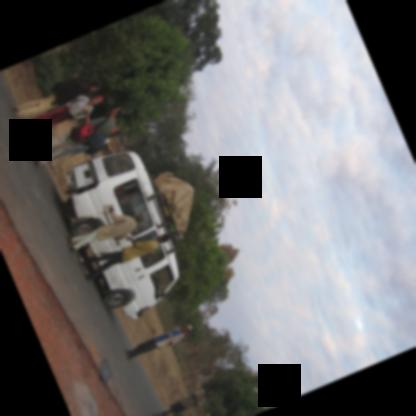backpack: (63, 124, 96, 144), (50, 79, 76, 91), (82, 143, 105, 154)
handbag: (67, 115, 75, 121)
